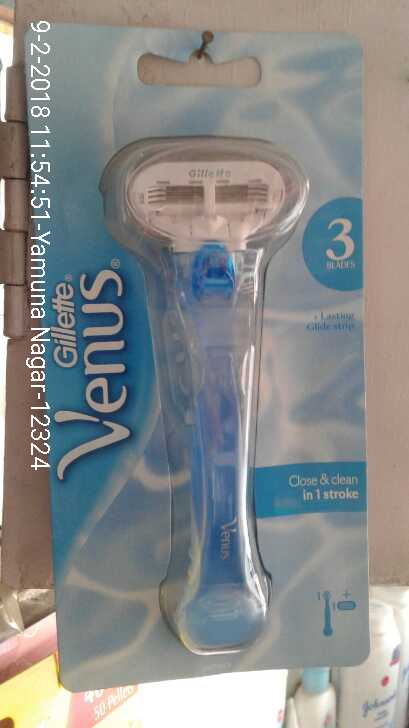venus: (27, 23, 369, 678)
